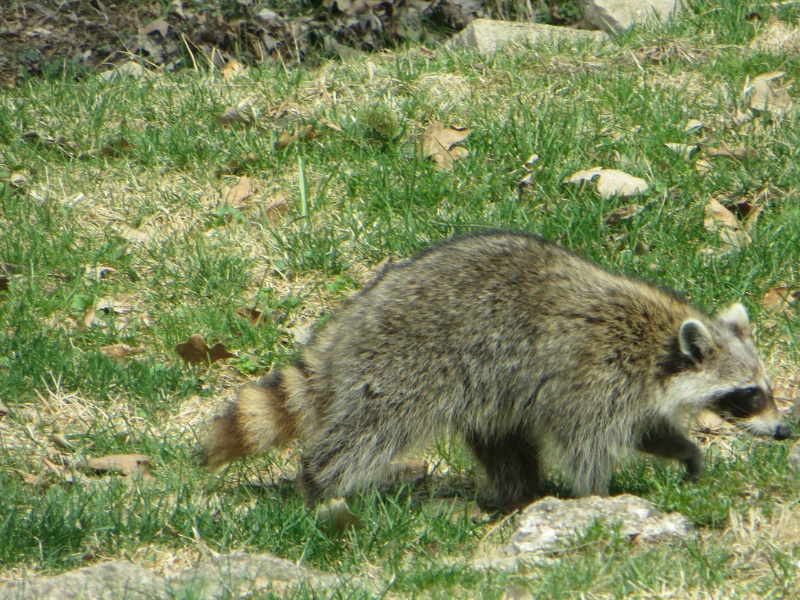raccoon: (185, 230, 792, 523)
